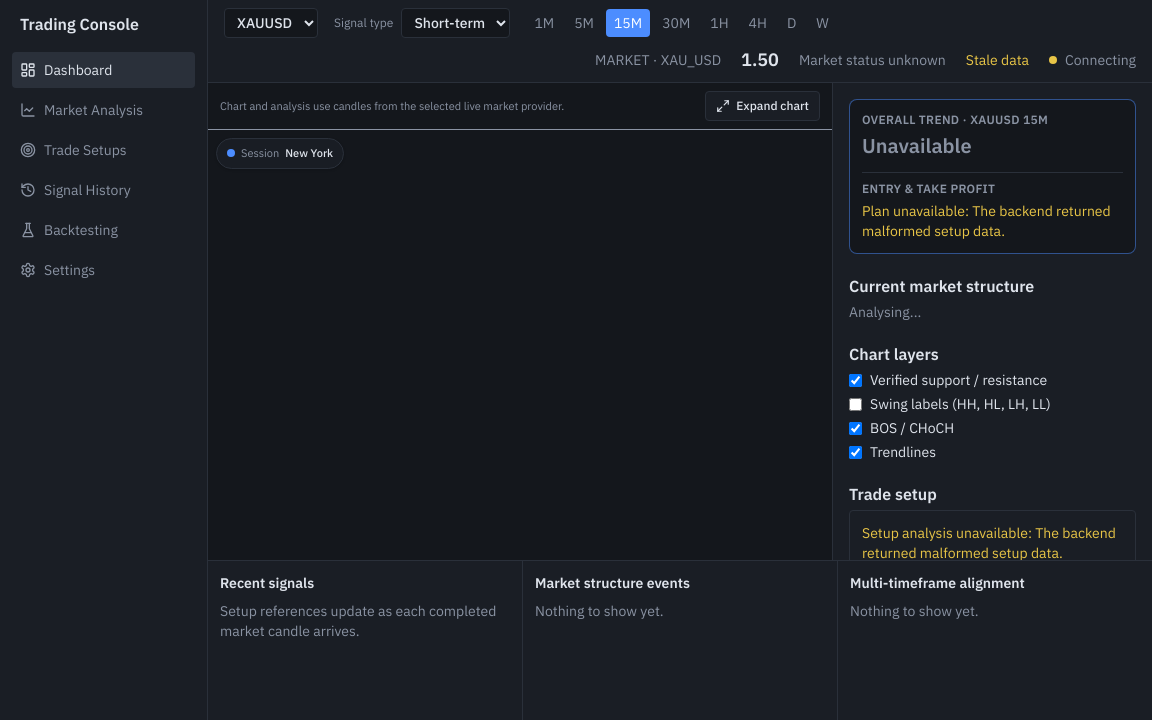
it: console › switching instrument closes the old stream, requests the new symbol and never mixes data
Select "USDJPY" in the dropdown named "Instrument" at coordinates (271, 23), box [224,8,318,38]
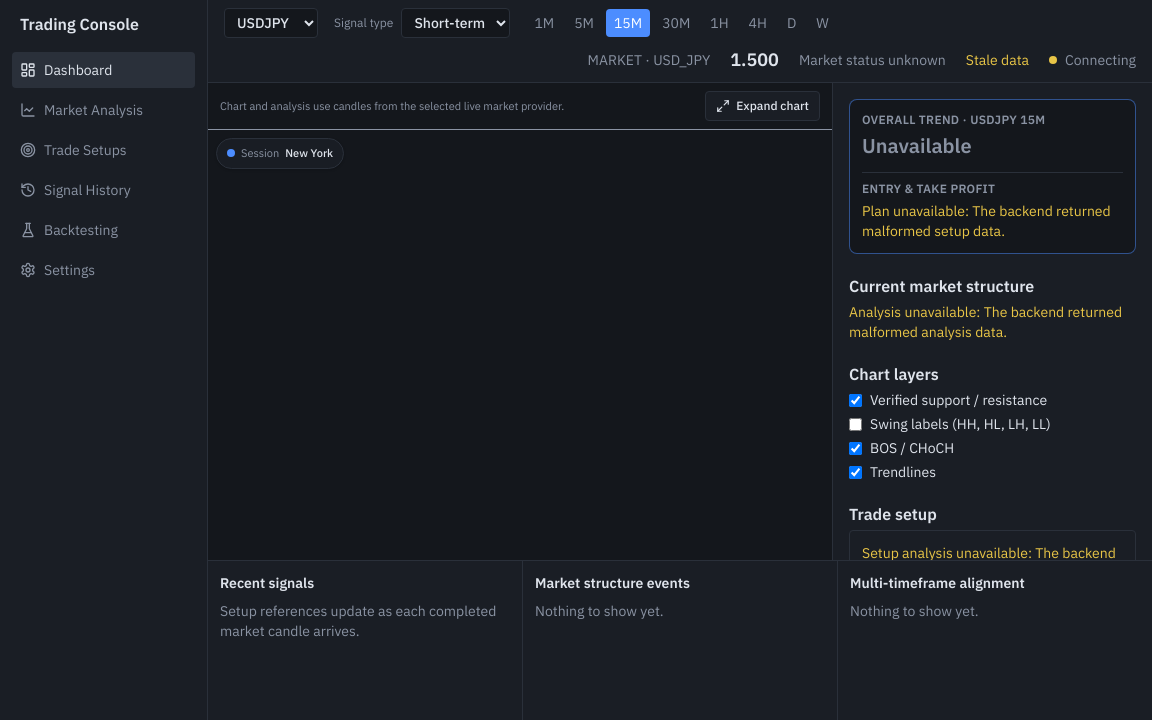
Expected: the text with test id "provider-label" reads "MARKET · USD_JPY", [588,50,710,70]
